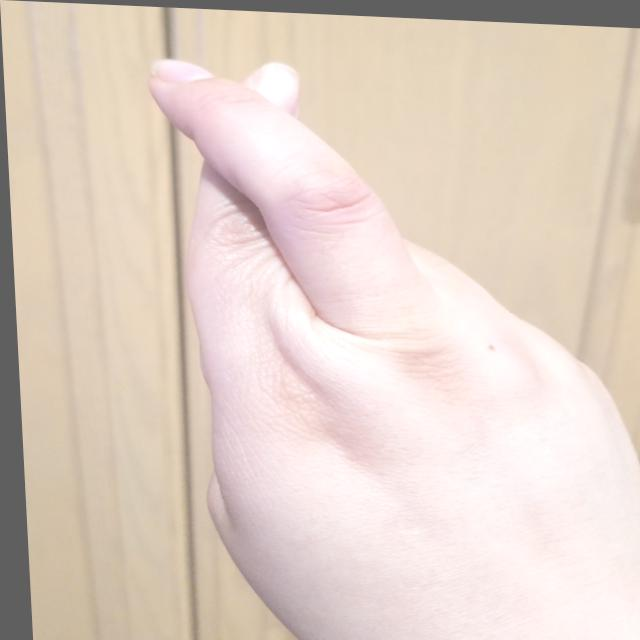R: (132, 46, 639, 639)
